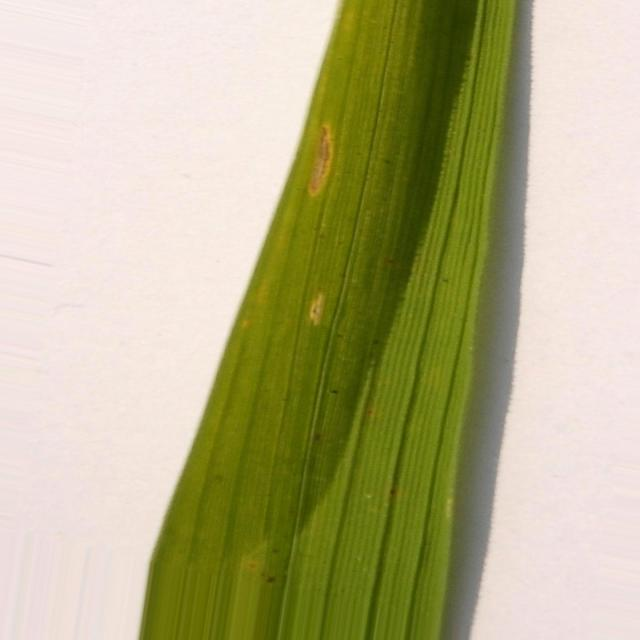Bacterial_Leaf_Blight: (308, 125, 332, 196), (310, 289, 322, 323)
